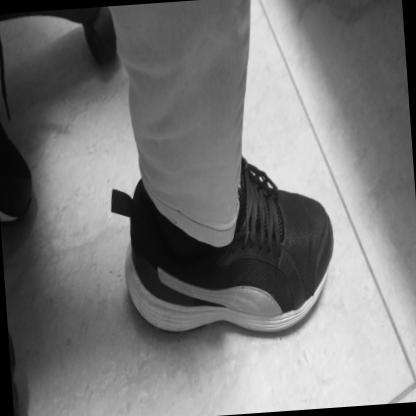ankle: (197, 252, 202, 260)
heel: (130, 269, 134, 275)
left_foot: (119, 154, 342, 343)
pinky: (304, 293, 306, 299)
toe: (309, 202, 313, 208)
